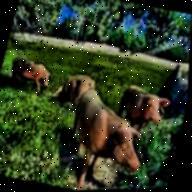boar: (43, 81, 164, 191), (106, 67, 177, 133), (0, 47, 64, 103)
